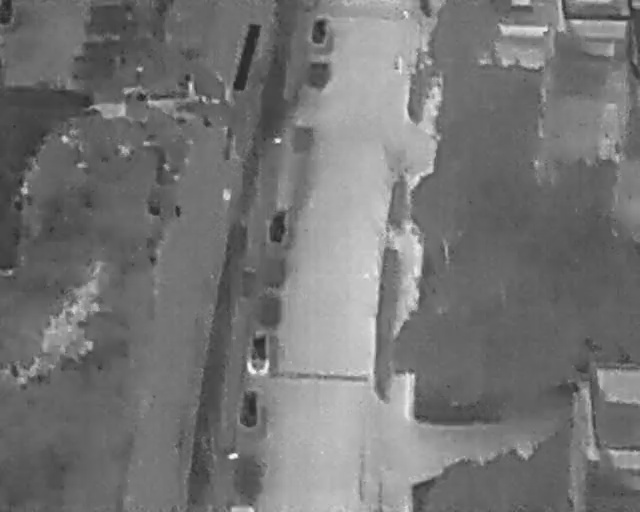Car: (247, 331, 269, 373), (267, 208, 289, 244), (239, 389, 258, 428), (310, 16, 329, 44)
